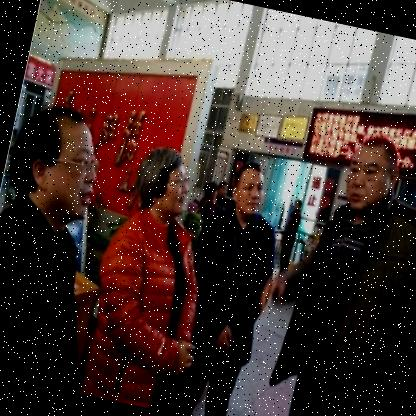sem_capacete: (0, 97, 117, 229), (337, 128, 408, 218), (126, 142, 198, 222), (224, 158, 272, 222)
sem_colete_refletivo: (268, 180, 415, 415), (71, 200, 218, 406), (0, 197, 102, 390), (174, 202, 285, 365)
